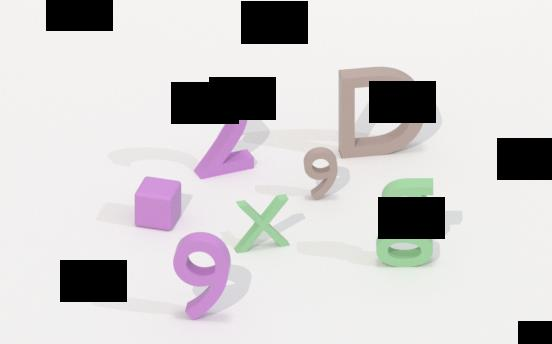2: (186, 82, 259, 182)
9: (174, 228, 233, 322), (305, 141, 339, 203)
d: (334, 58, 429, 165)
g: (373, 174, 437, 271)
hop: (129, 171, 183, 234)
x: (231, 195, 295, 256)
